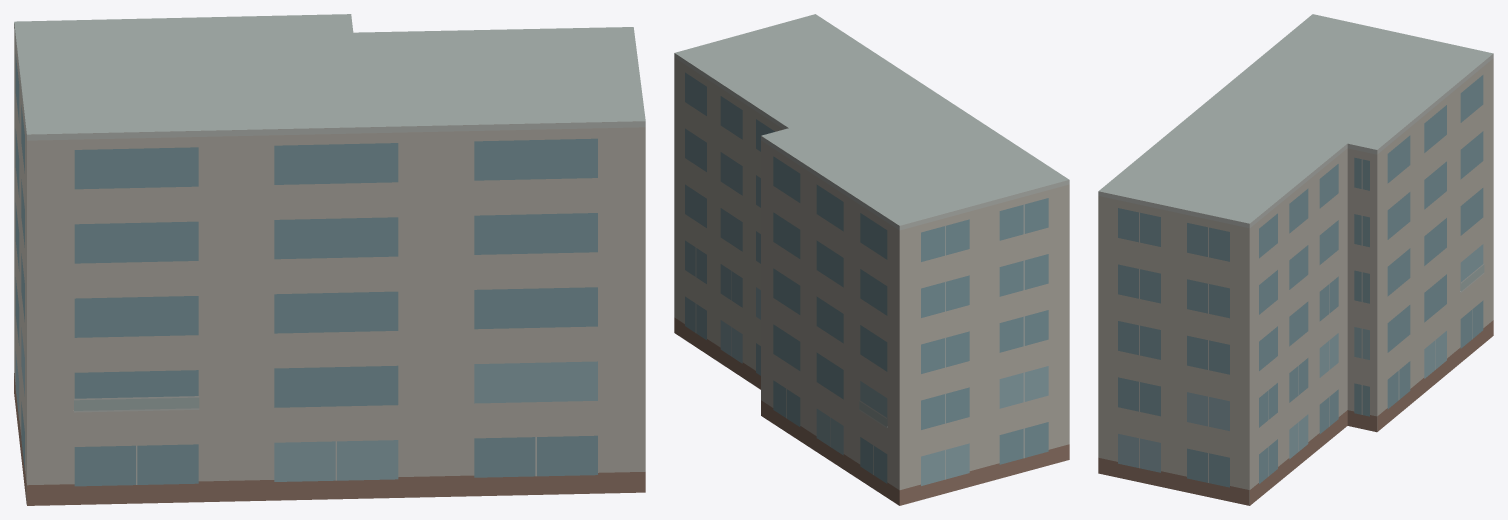
Rendered from survey-upis-32885196.glb.
3 views of the same model, side by side, from view 1: azimuth 30°, elevation 25°; view 2: azimuth 150°, elevation 25°; view 3: azimuth 270°, elevation 25° (orthographic). The views are drawn at different scales.
Parts seen in each view (by area): view 1: survey-upis-32885196.tmp; view 2: survey-upis-32885196.tmp; view 3: survey-upis-32885196.tmp.
Boxes of the visible parts, left/top/right/bottom form: survey-upis-32885196.tmp: left=14, top=14, right=645, bottom=505; survey-upis-32885196.tmp: left=674, top=14, right=1069, bottom=505; survey-upis-32885196.tmp: left=1098, top=14, right=1493, bottom=505.
Bounding box in the file's own units: 23.43 × 14.7 × 18.67.
